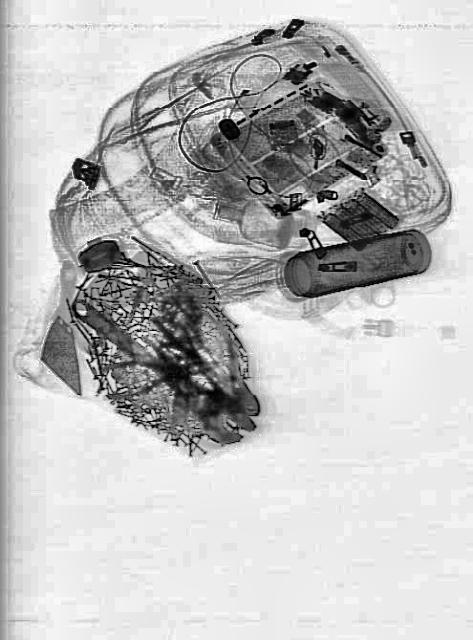Wrench: (60, 278, 260, 460)
